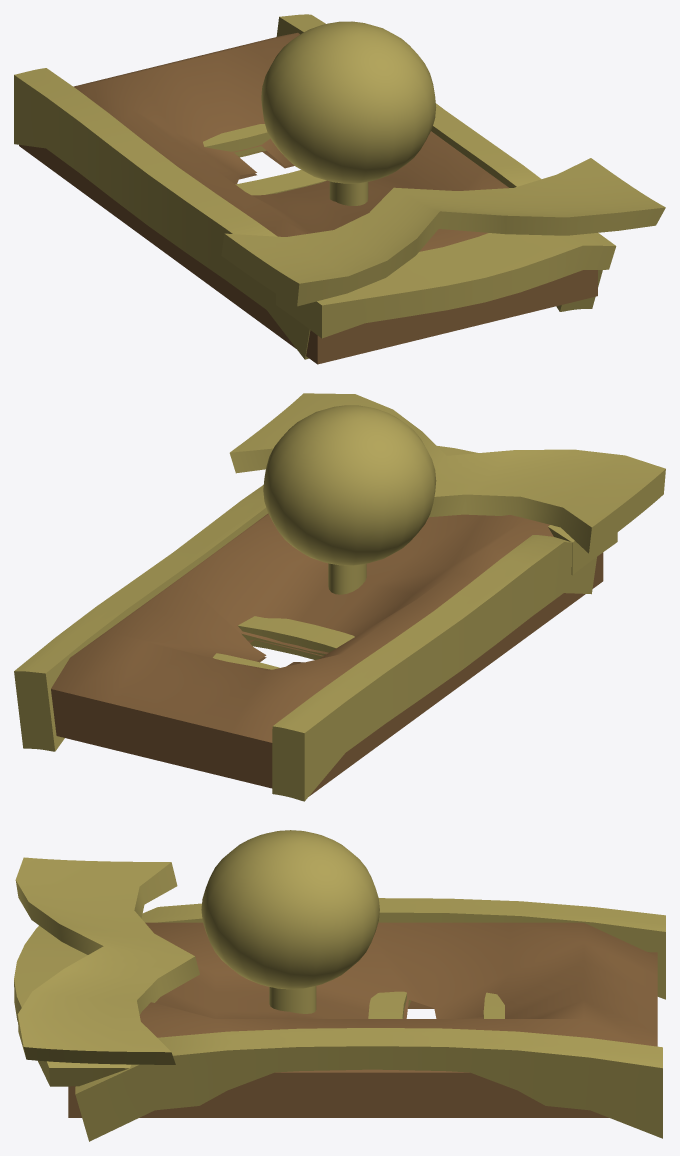
File: doorknob.fbx
3 renders of one model, top to bottom at view 1: azimuth 30°, elevation 25°; view 2: azimuth 150°, elevation 25°; view 3: azimuth 270°, elevation 25°, orthographic.
Parts seen in each view (by area): view 1: pCube4, pCube6, pSphere2, pCube10, pCube8, pCube11, pCube9, pCube7, pCylinder1; view 2: pCube4, pCube10, pSphere2, pCube6, pCube11, pCube7, pCube8, pCylinder1; view 3: pCube4, pCube11, pCube6, pSphere2, pCube10, pCube8, pCylinder1, pCube7, pCube9.
Part boxes in pixels (x1,y1,x2,y2): pCube4: [19, 32, 597, 364]; pCube6: [221, 158, 665, 306]; pSphere2: [261, 21, 436, 183]; pCube10: [14, 68, 310, 359]; pCube8: [276, 233, 616, 338]; pCube11: [276, 14, 602, 311]; pCube9: [203, 124, 270, 157]; pCube7: [235, 170, 326, 195]; pCylinder1: [329, 181, 368, 205]; pCube4: [51, 513, 603, 796]; pCube10: [272, 535, 596, 801]; pSphere2: [263, 405, 436, 565]; pCube6: [229, 393, 665, 553]; pCube11: [14, 485, 267, 751]; pCube7: [238, 616, 354, 659]; pCube8: [437, 446, 617, 574]; pCylinder1: [328, 563, 366, 594]; pCube4: [68, 922, 657, 1117]; pCube11: [75, 1028, 662, 1141]; pCube6: [15, 857, 199, 1064]; pSphere2: [201, 830, 379, 989]; pCube10: [141, 898, 665, 999]; pCube8: [14, 925, 130, 1086]; pCylinder1: [269, 986, 316, 1013]; pCube7: [368, 991, 410, 1018]; pCube9: [483, 992, 504, 1018].
Size of the model in its own units: 2.58 by 1.6 by 4.03.
